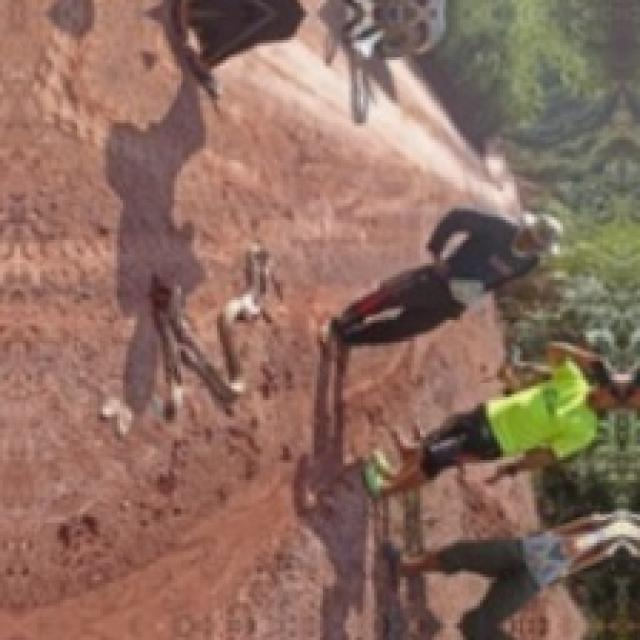king cobra: (151, 245, 269, 408)
